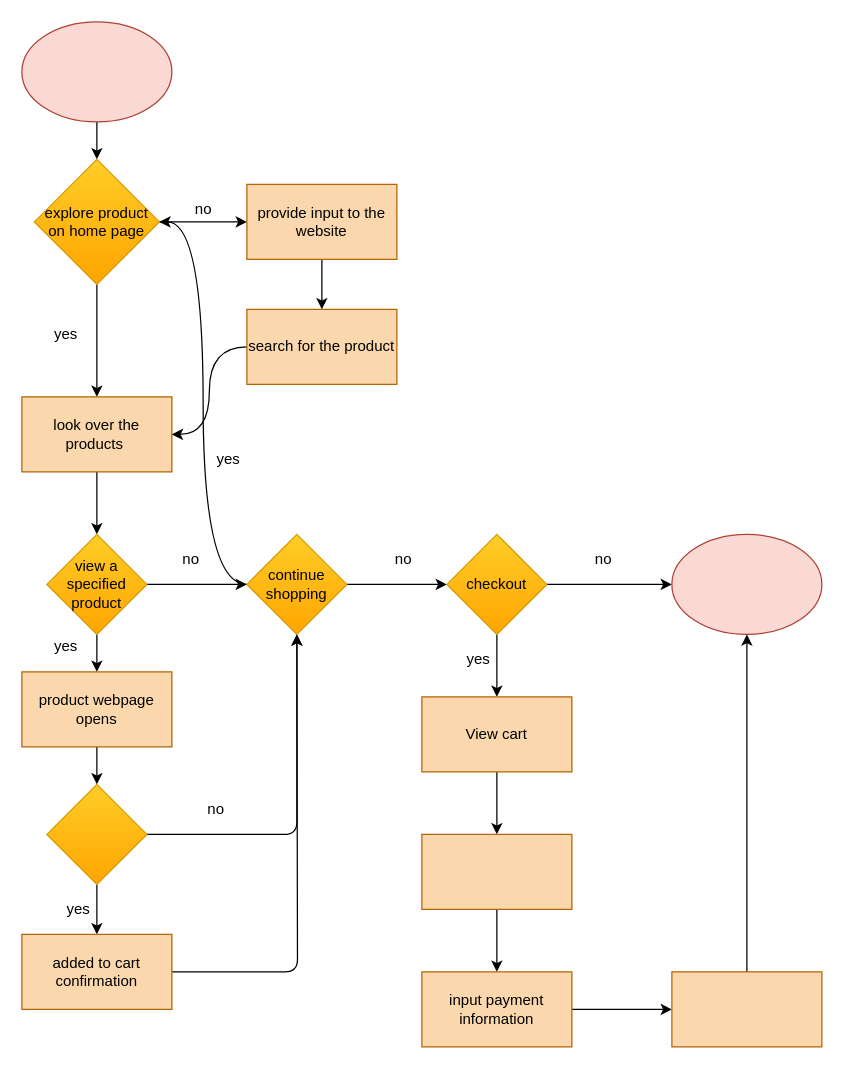
Some shapes in this 844 by 1069 pixel diagram are drawn without their labels. The box of each missing label's shape, as (x1, y1, x2, y2) in pixels:
add item to cart: (46, 783, 147, 884)
leave website: (671, 533, 822, 634)
see order confirmation screen and receive email: (671, 971, 822, 1047)
user enters website: (21, 21, 172, 122)
View payment: (421, 833, 572, 909)
